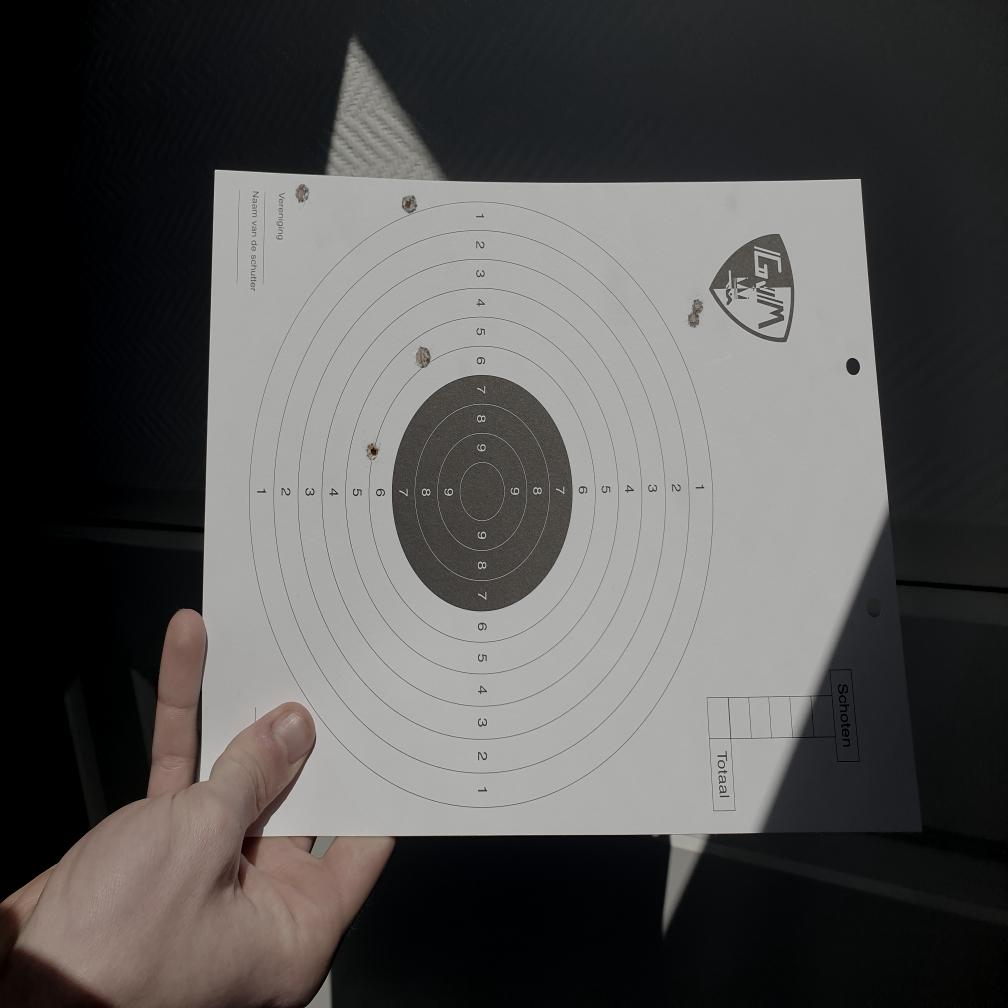0: (402, 194, 418, 214), (294, 183, 309, 204), (687, 295, 704, 313), (684, 312, 702, 327)
6: (415, 345, 433, 369), (365, 442, 379, 462)
Target: (247, 198, 715, 814)
black_contour: (392, 377, 574, 611)
